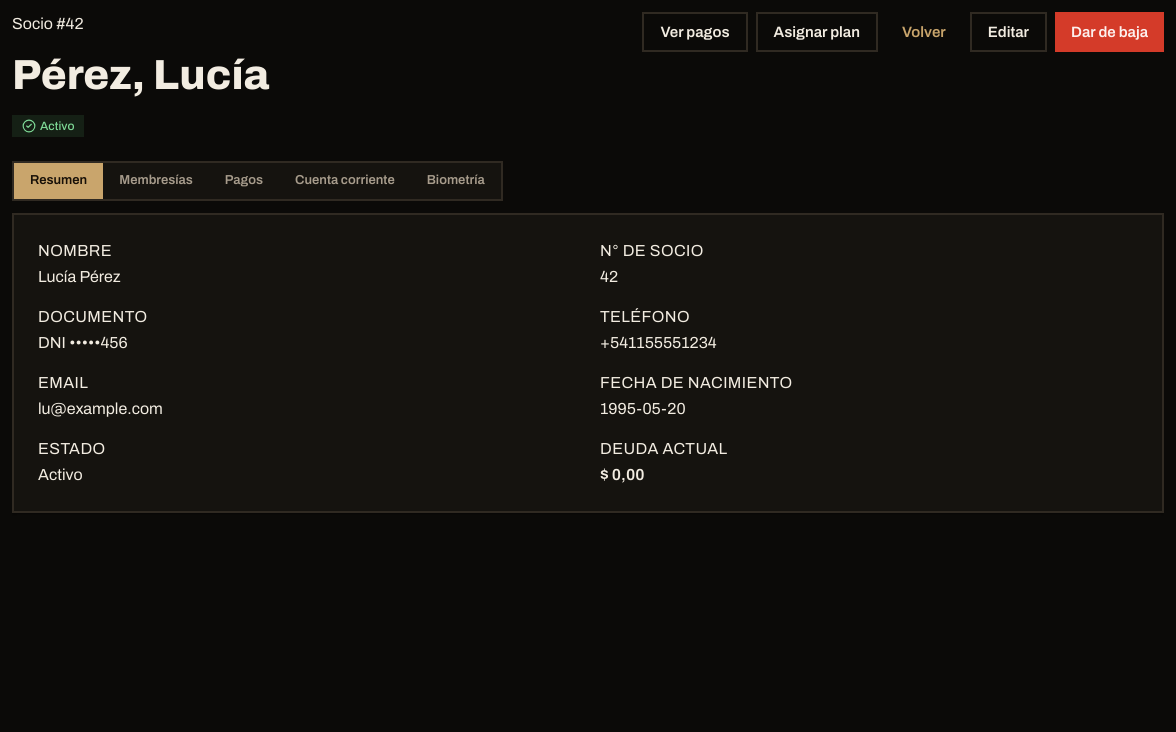
Test: MemberDetailPage › tab Membresías: lista las membresías del socio con el nombre del plan
expect the heading "Pérez, Lucía" is shown: met, box x1=12 y1=44 x2=269 y2=107
Step 1. Click the tab "Membresías" → (156, 181), box x1=103 y1=163 x2=209 y2=198
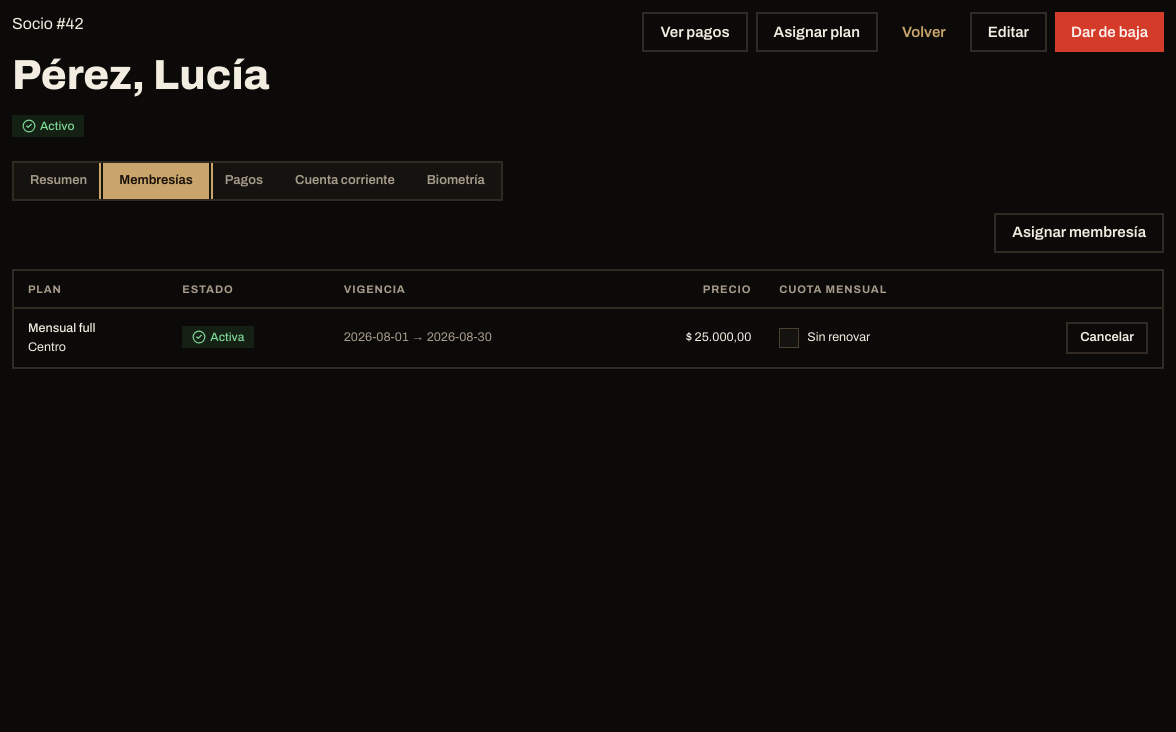
expect the text "Mensual full" is shown: met, box x1=28 y1=321 x2=96 y2=335
expect the text "Activa" is shown: met, box x1=210 y1=328 x2=244 y2=346
expect the text "2026-08-01 → 2026-08-30" is shown: met, box x1=344 y1=330 x2=492 y2=344
